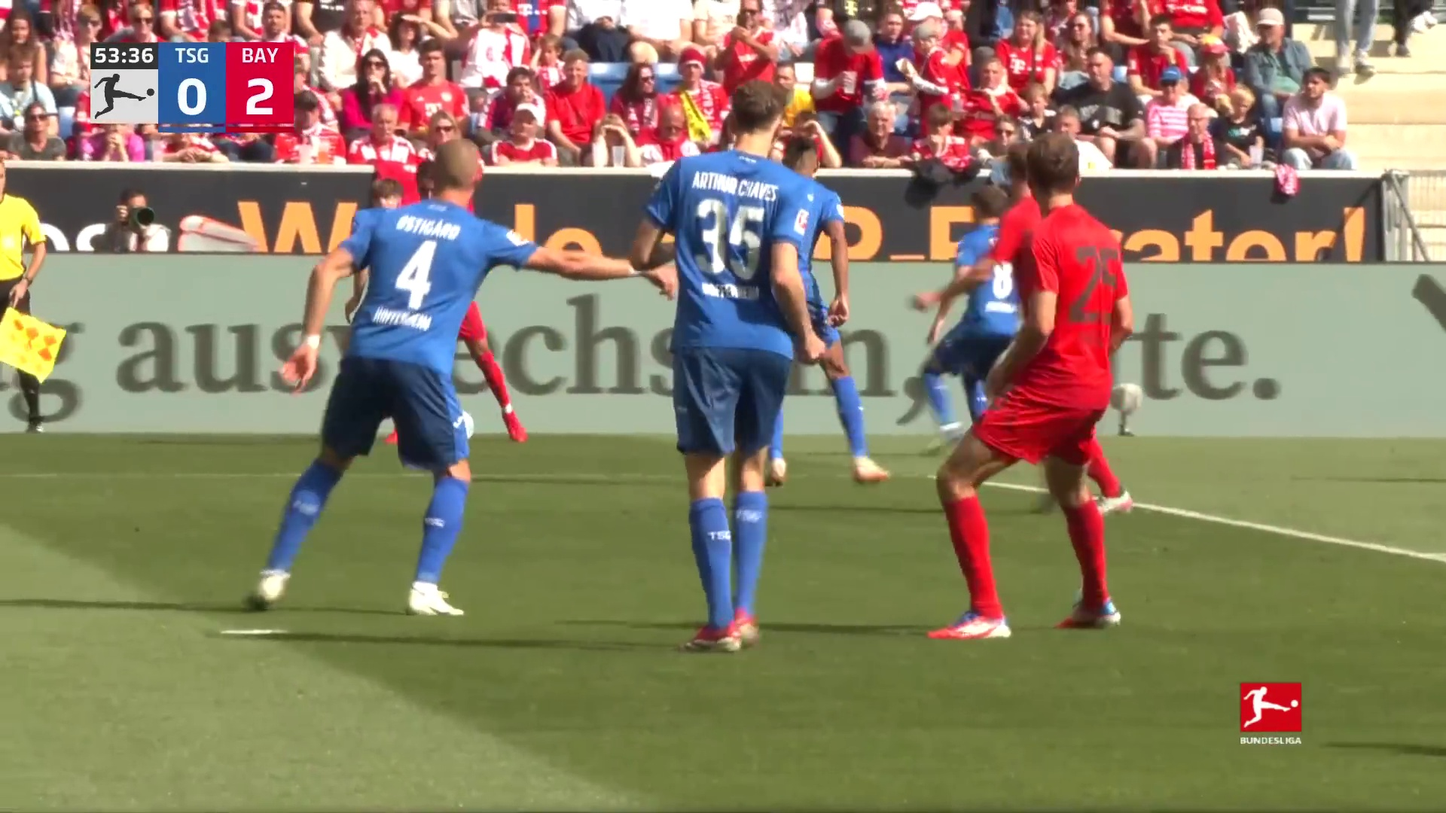player: (247, 137, 669, 612), (633, 78, 826, 650), (925, 134, 1138, 645), (761, 133, 888, 495), (915, 186, 1013, 455)
referee: (0, 155, 67, 440)
